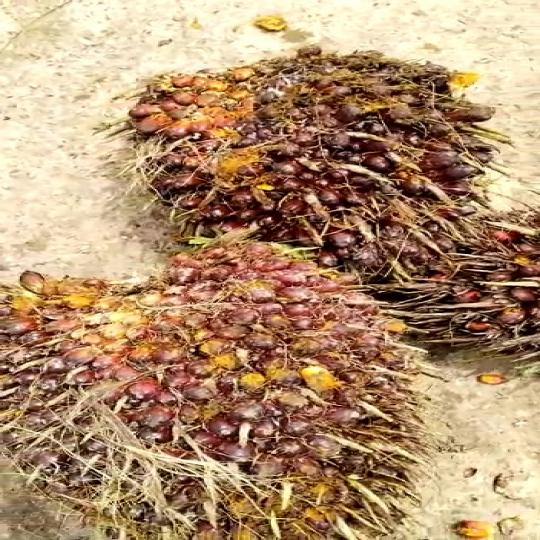masak: (0, 235, 476, 540), (108, 60, 540, 288)
